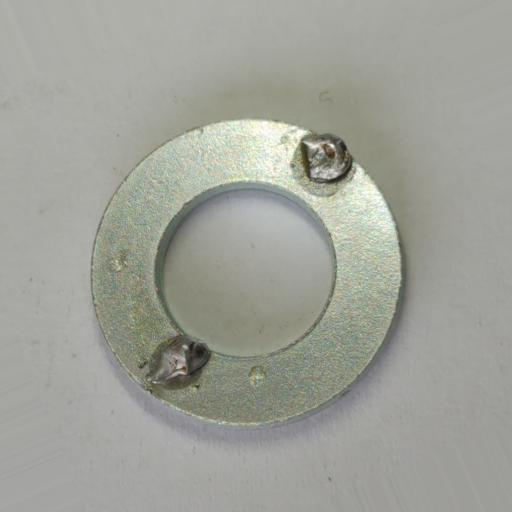excess_material: (143, 333, 212, 391), (301, 133, 352, 183)
